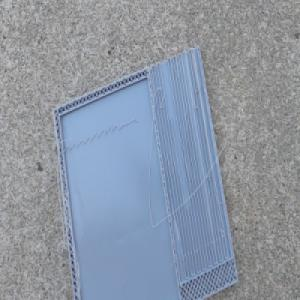PlasticPart: (51, 42, 239, 299)
